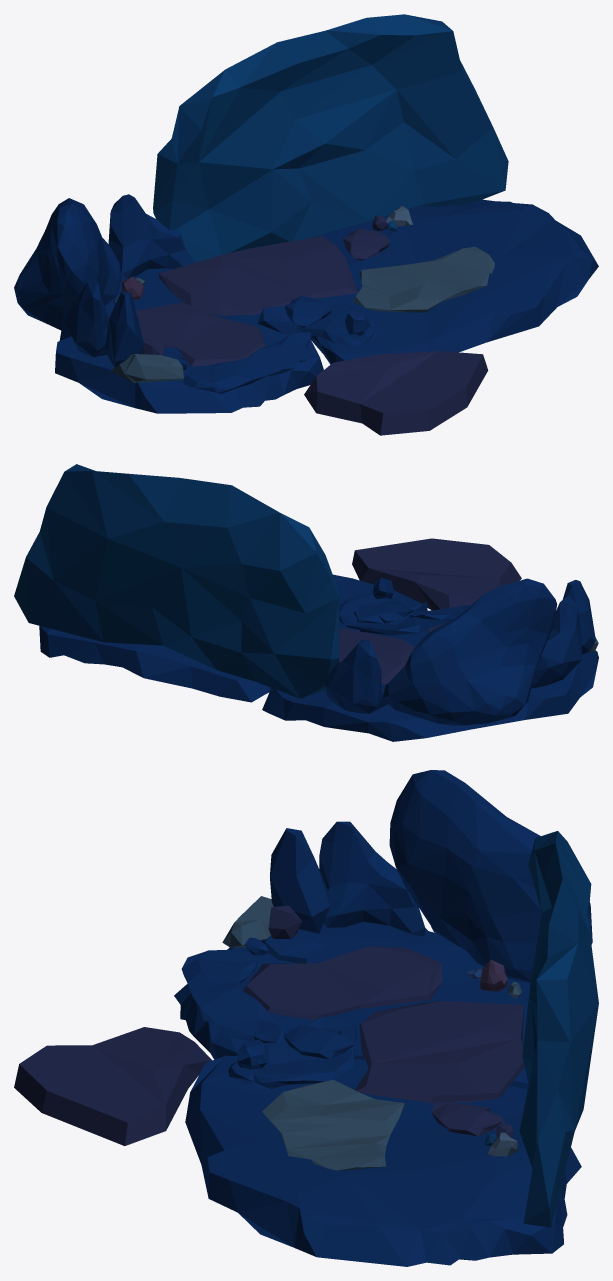
Rendered from Cave.glb.
The picture shows the model from 3 angles, top to bottom: view 1: azimuth 30°, elevation 25°; view 2: azimuth 150°, elevation 25°; view 3: azimuth 270°, elevation 25°; orthographic projection. The views are drawn at different scales.
Parts seen in each view (by area): view 1: Cave; view 2: Cave; view 3: Cave.
Boxes of the visible parts, left/top/right/bottom form: Cave: left=14, top=14, right=598, bottom=435; Cave: left=14, top=464, right=598, bottom=741; Cave: left=14, top=770, right=598, bottom=1266.
Bounding box in the file's own units: 14.27 × 5.8 × 10.6.
